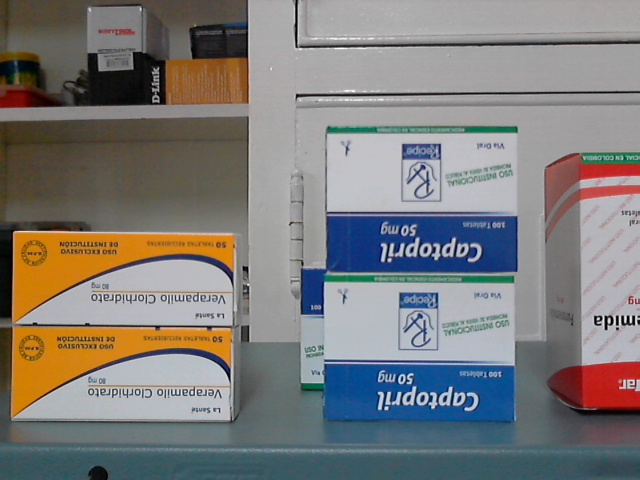LaSante: (14, 233, 233, 325), (13, 329, 230, 421)
